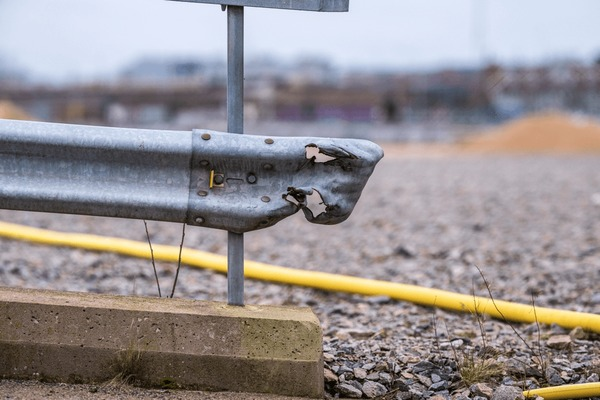damaged: (246, 126, 392, 243)
